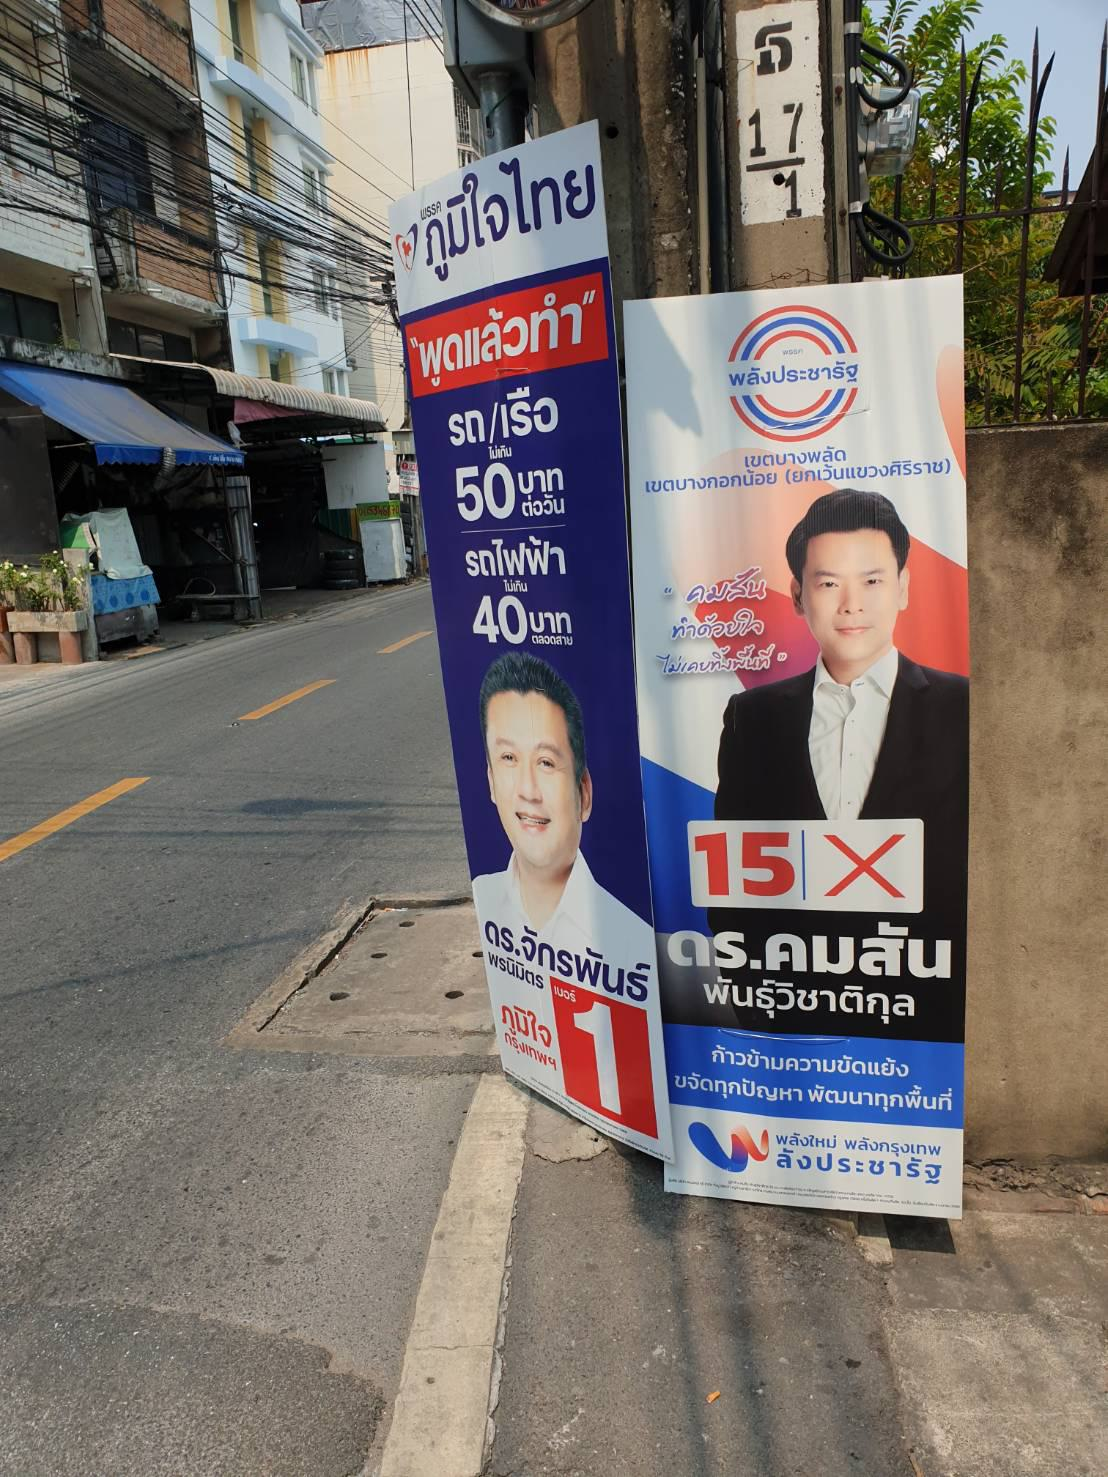Banner: (622, 282, 963, 1247), (345, 120, 642, 1142)
